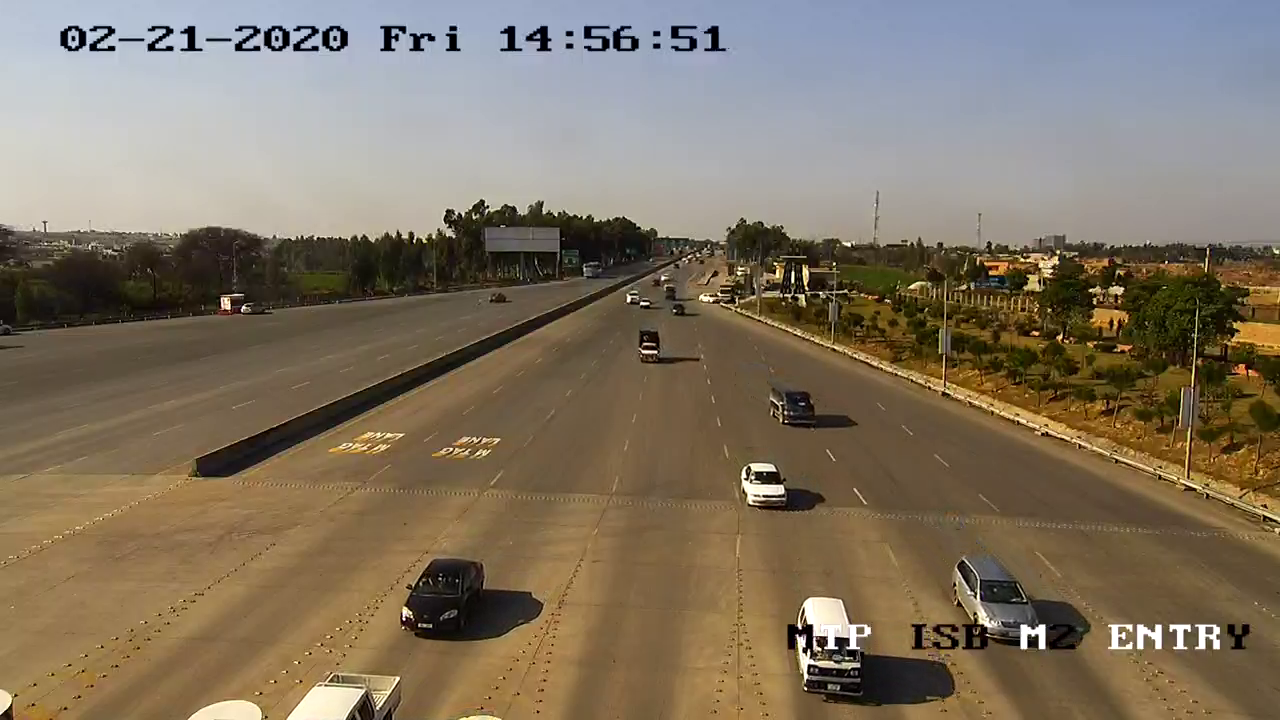f1: (391, 550, 500, 652), (754, 364, 839, 441), (729, 451, 797, 523)
